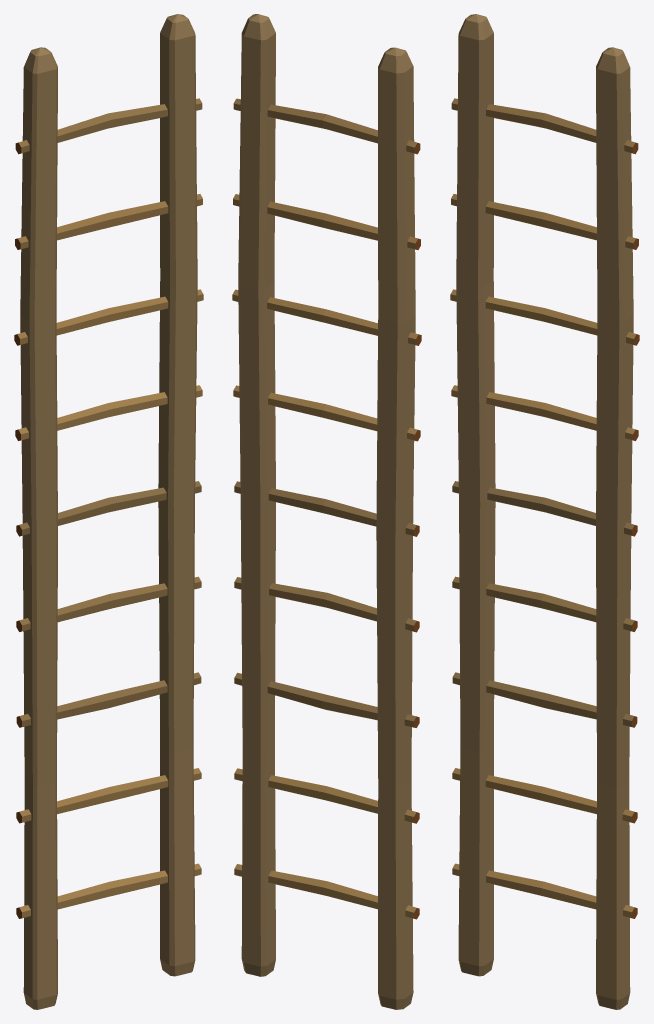
The model's file is rustic-wooden-ladder-a40b5f.glb.
The picture shows the model from 3 angles, left to right: view 1: azimuth 30°, elevation 25°; view 2: azimuth 150°, elevation 25°; view 3: azimuth 330°, elevation 25°; orthographic projection.
Visible parts, largest first — view 1: ladder; view 2: ladder; view 3: ladder.
Part boxes in pixels (x1,y1,x2,y2): ladder: [14, 14, 203, 1009]; ladder: [232, 14, 421, 1009]; ladder: [450, 14, 639, 1009].
Size of the model in its own units: 0.6022 by 3 by 0.0832.
